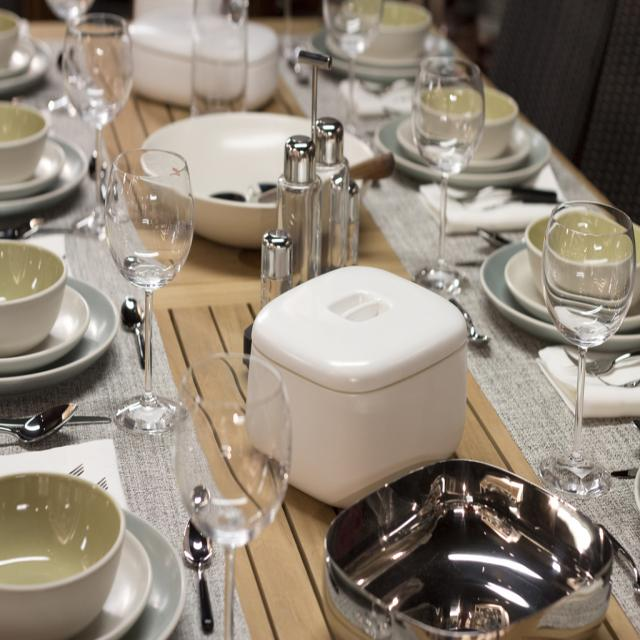non-organic waste: (125, 94, 352, 253)
